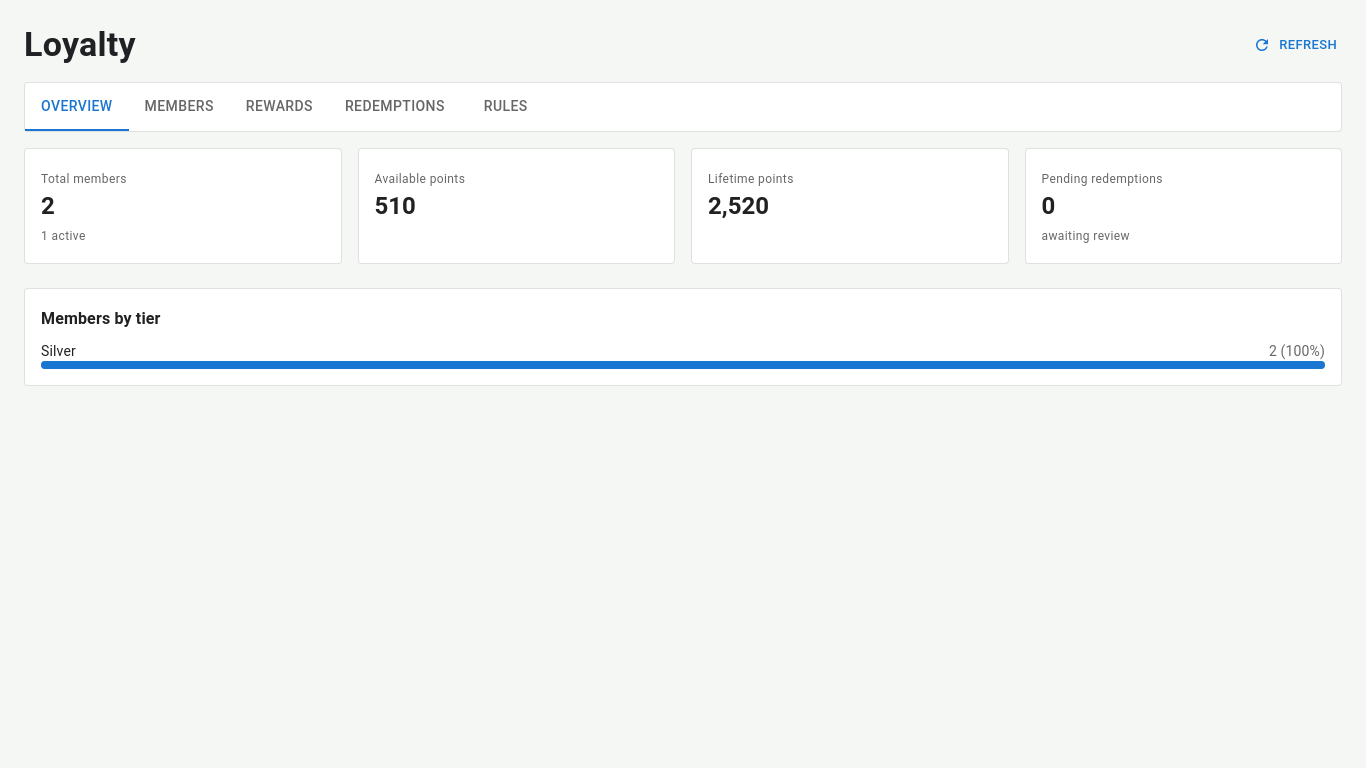
Test: LoyaltyPortal › saves programme rules and confirms success
The image size is (1366, 768).
Click the tab "Rules" at (506, 107), box [461,83,551,131]
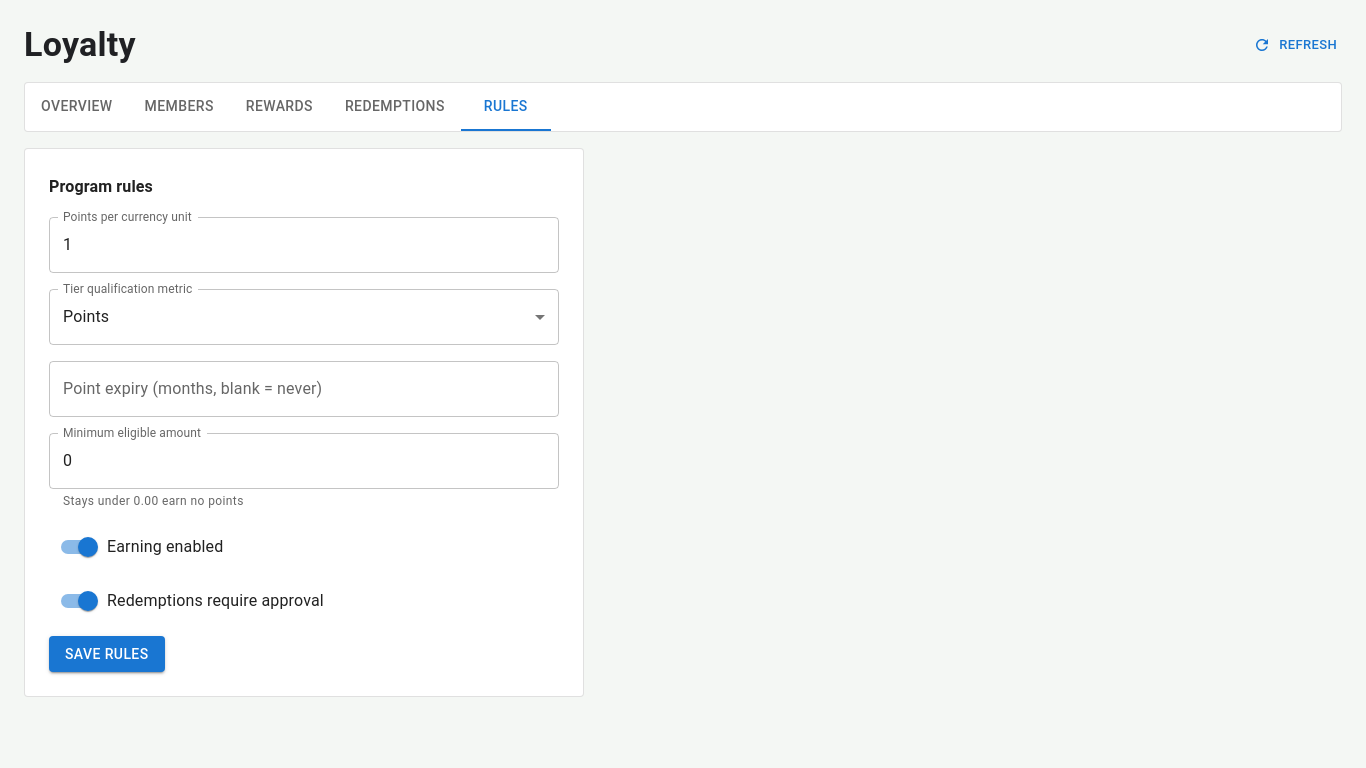
Replace the text in the number field labelled "Points per currency unit" with "2" at (304, 245), box [49,217,559,273]
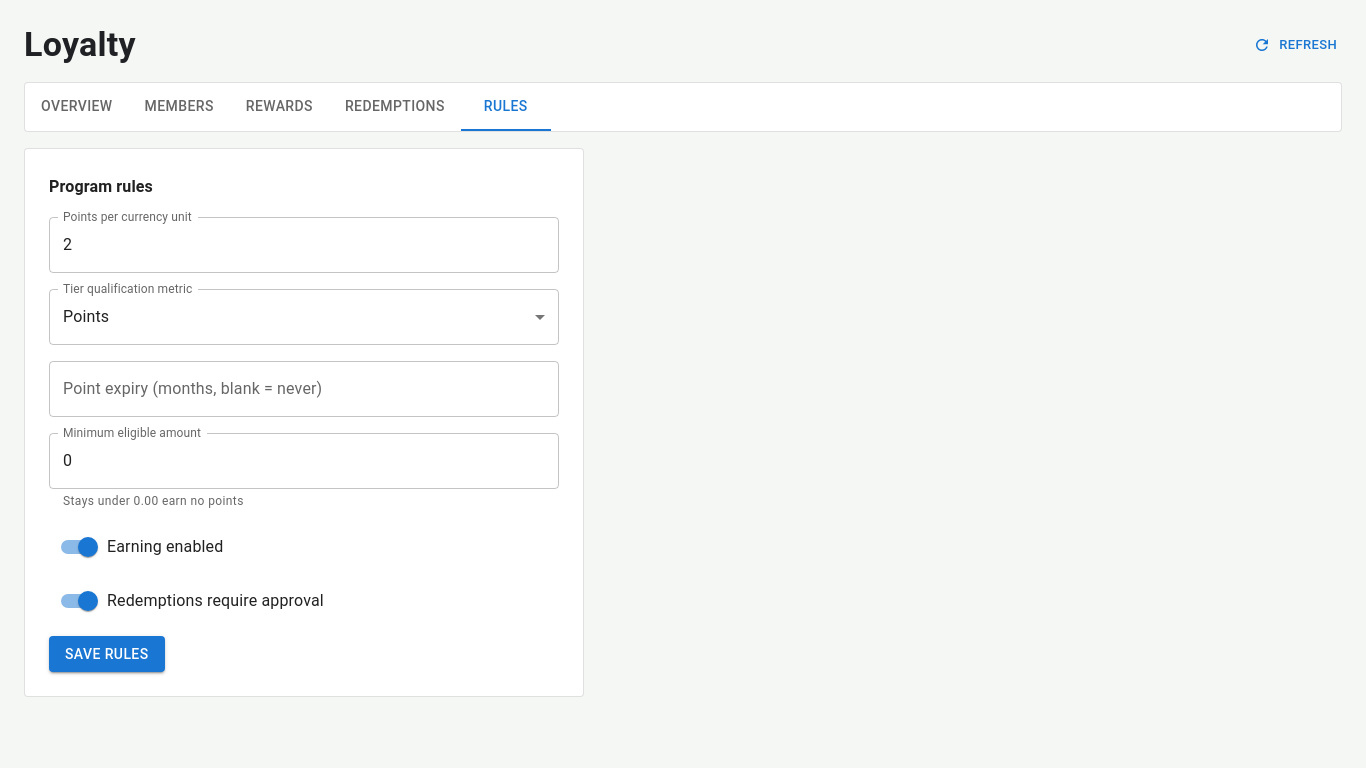
Click the button "Save rules" at (107, 654), box [49,636,164,672]
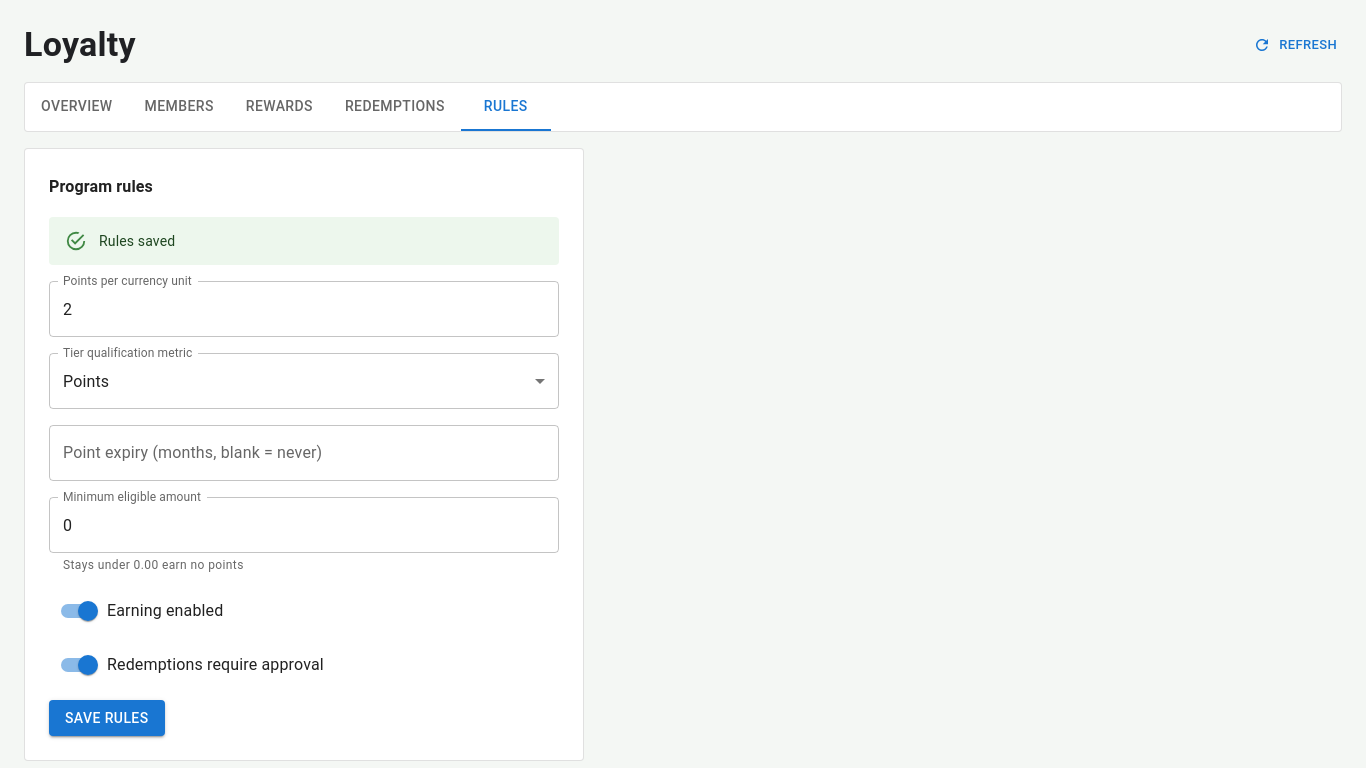
Result: the text "Rules saved" is shown at [99,233,175,249]
